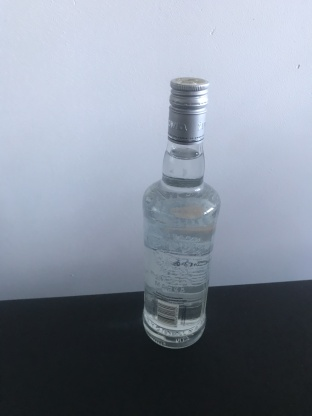nakretka: (166, 75, 210, 147)
